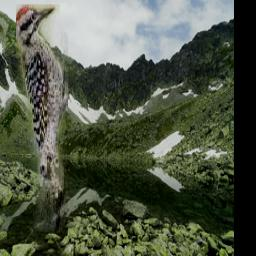Woodpecker: (16, 6, 68, 233)
